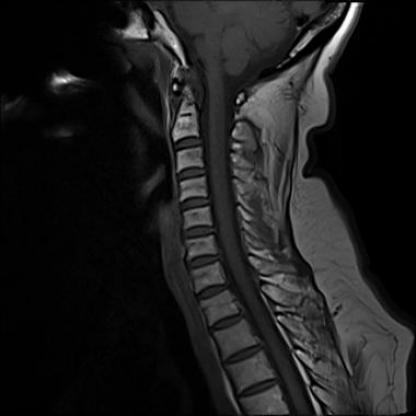Disc Bulgerotation: (184, 250, 223, 272), (182, 222, 215, 244)
